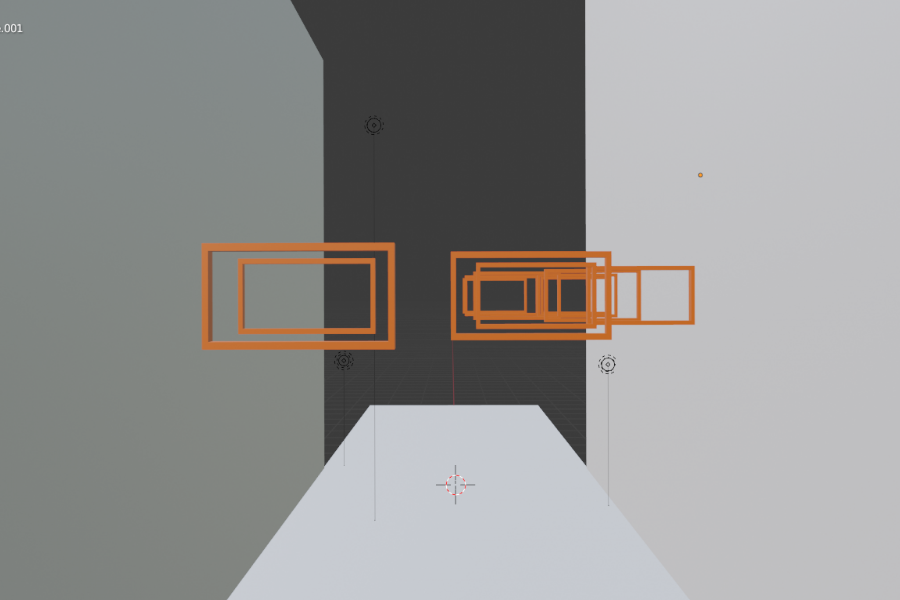GATE: (195, 241, 397, 351), (450, 250, 611, 346), (236, 261, 370, 329)
